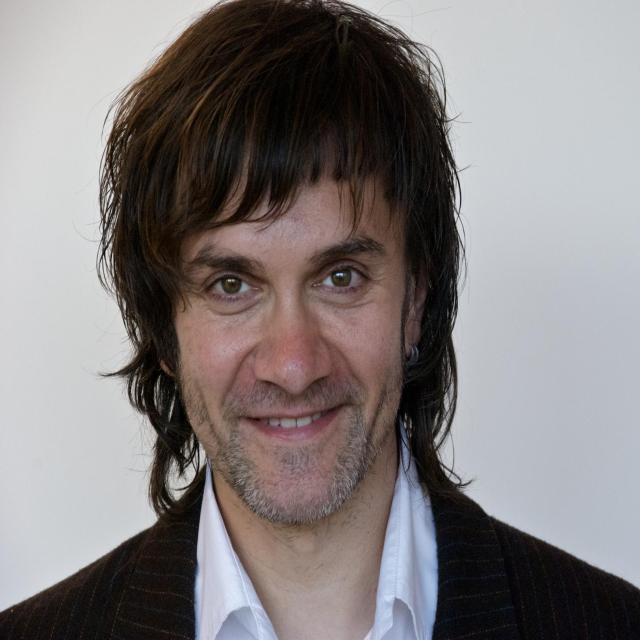no-glass: (198, 258, 370, 312)
